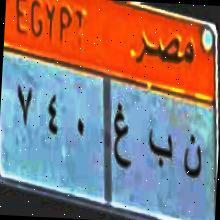0: (74, 110, 86, 146)
4: (46, 87, 61, 139)
7: (16, 82, 34, 130)
baa: (146, 126, 174, 172)
ghayn: (108, 100, 132, 177)
noon: (180, 122, 204, 188)
